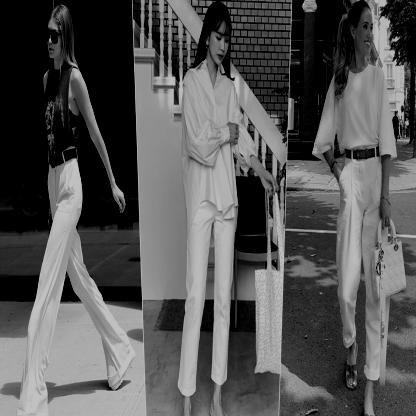dress: (24, 156, 132, 400), (331, 144, 390, 384), (178, 59, 258, 221), (174, 198, 238, 393), (314, 63, 397, 162)
jacket: (41, 64, 82, 160)
